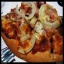pizza: (1, 3, 60, 62)
